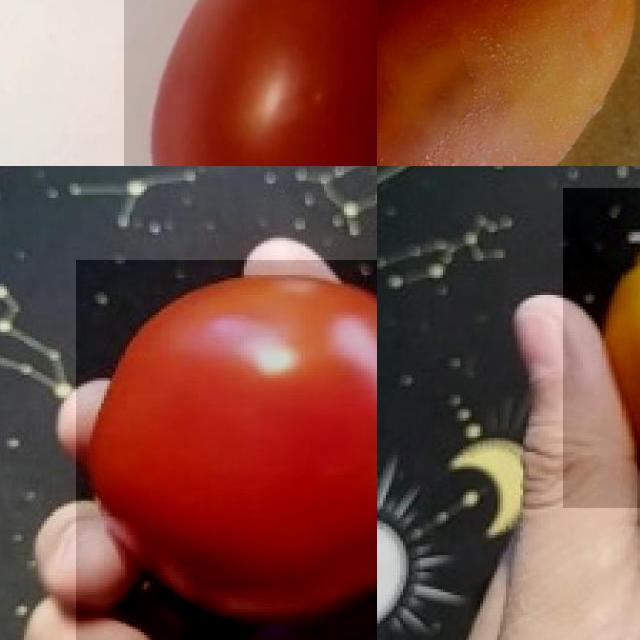Fresh Tomato: (76, 260, 377, 640), (377, 0, 640, 166), (123, 0, 377, 166), (563, 188, 640, 508)
